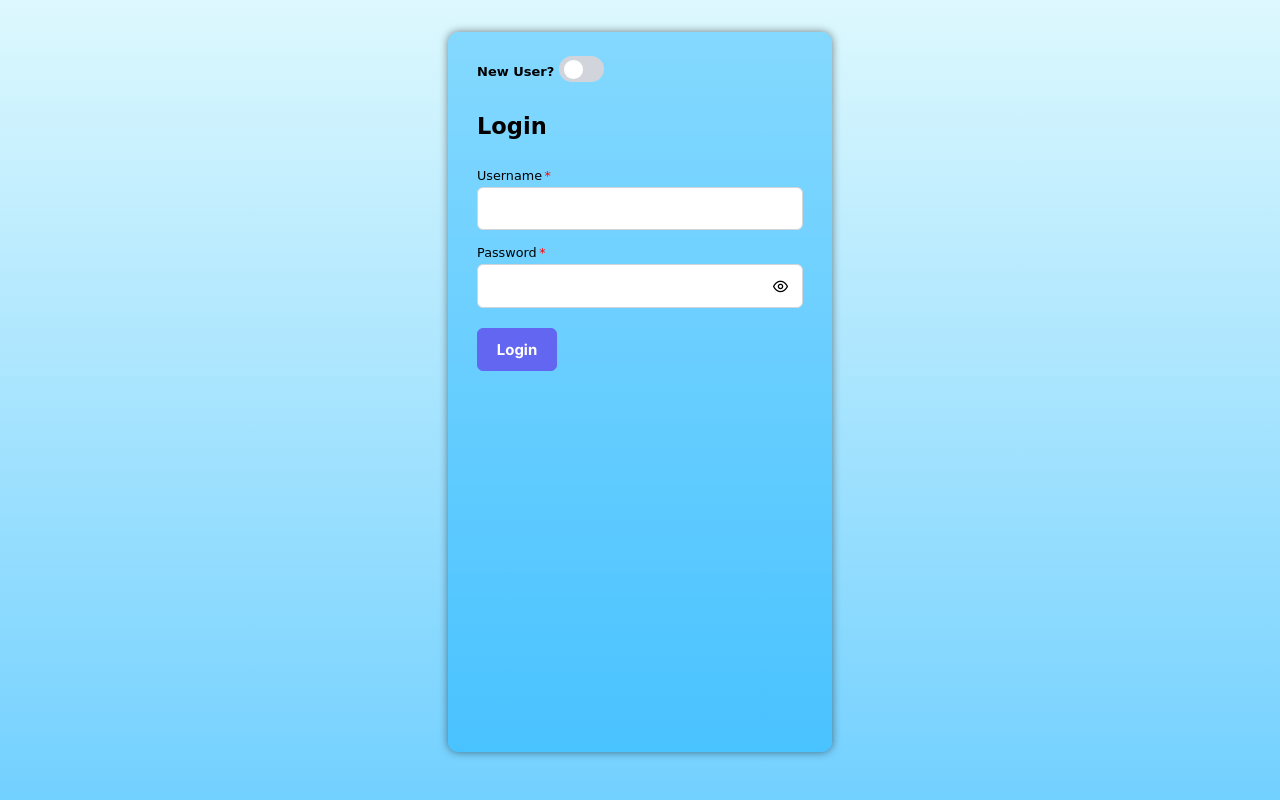
Test: StartPage component › renders LoginForm when 'New User' is not checked
Click the checkbox with test id "newUserToggle" at [582, 69], box [559, 56, 604, 82]
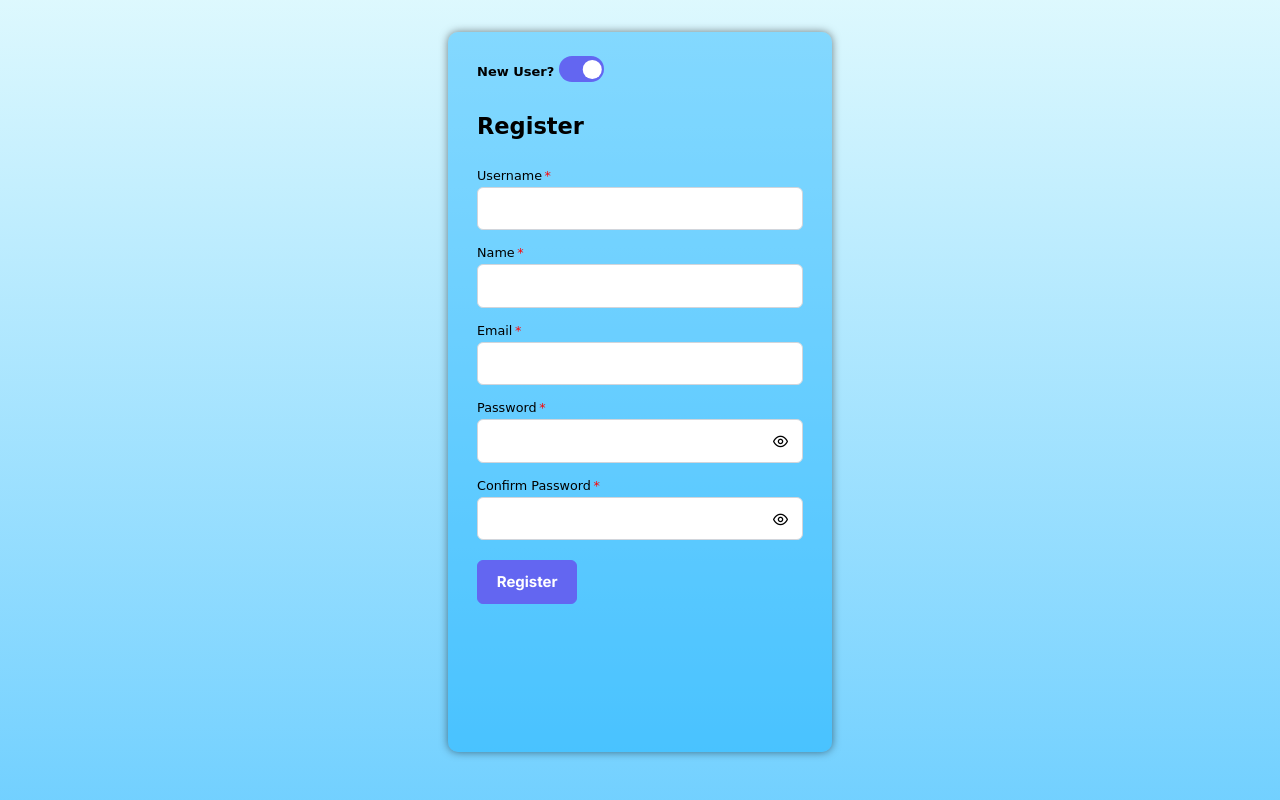
Click the checkbox with test id "newUserToggle" at [582, 69], box [559, 56, 604, 82]
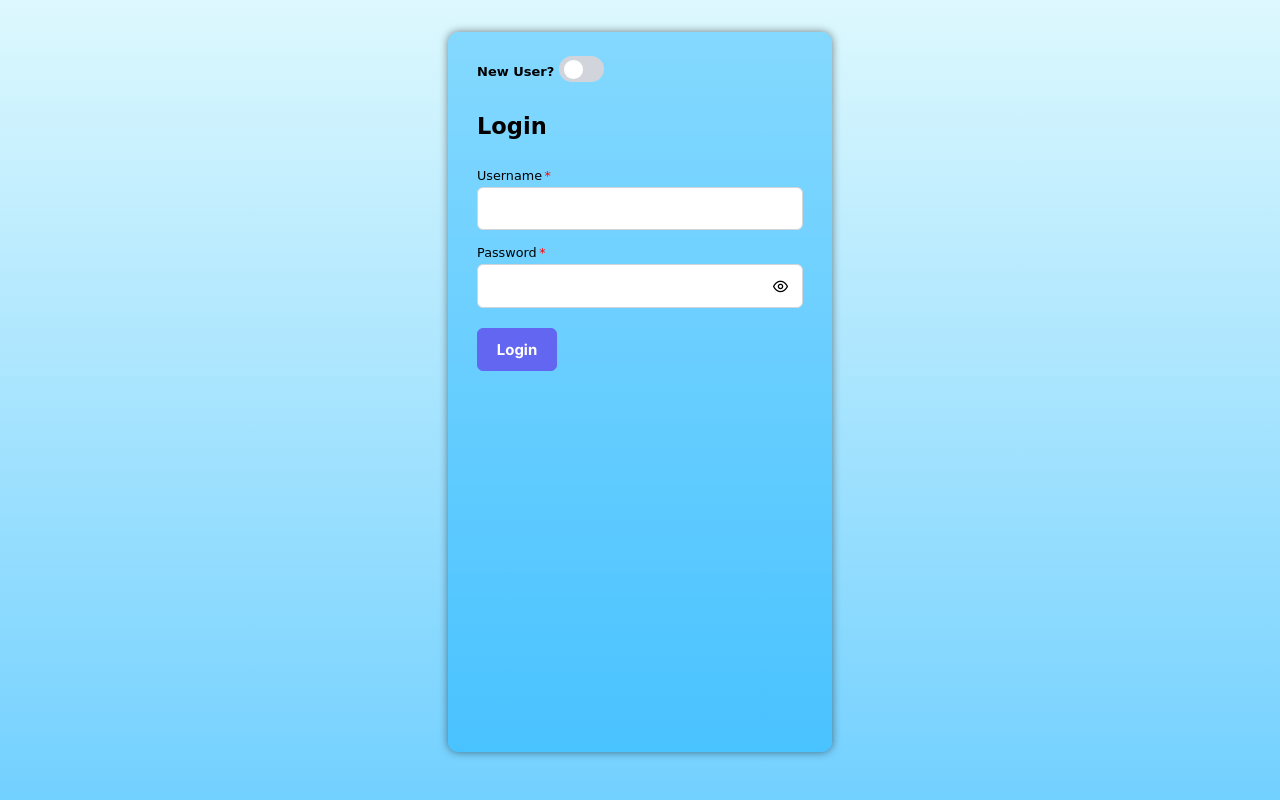
Expected: the form with test id "loginForm" is shown, [472, 108, 808, 371]
